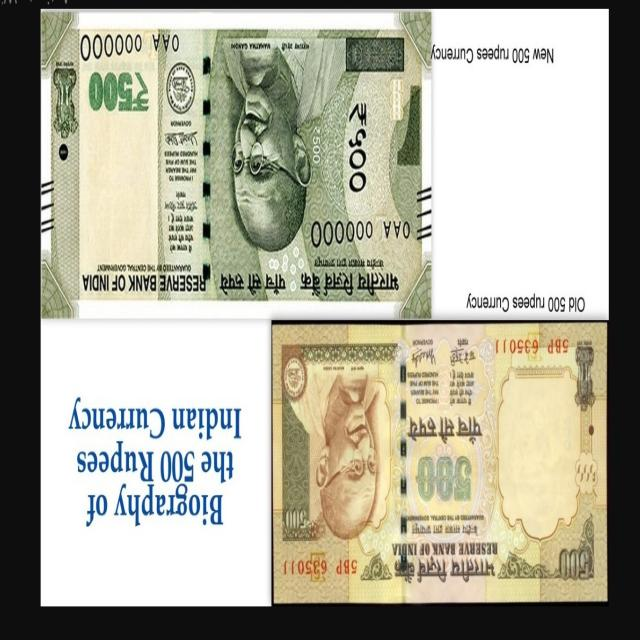500IndianRupees: (40, 10, 430, 318)
